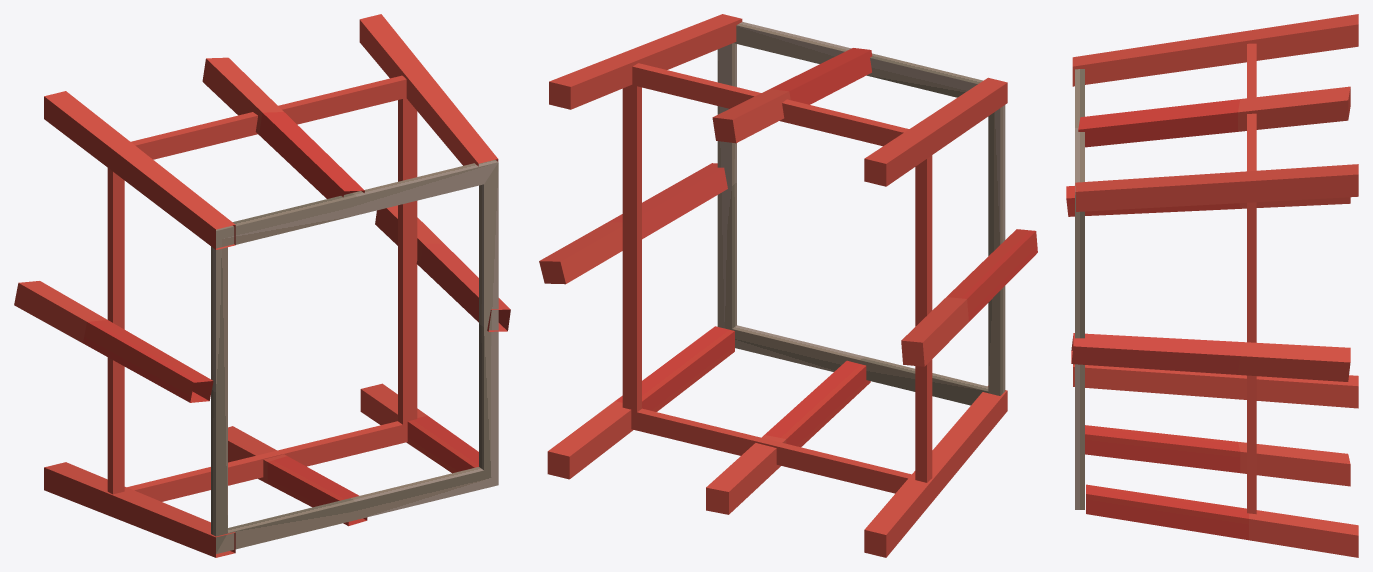
The model's file is 224_radiotower_001.gltf.
The picture shows the model from 3 angles, left to right: view 1: azimuth 30°, elevation 25°; view 2: azimuth 150°, elevation 25°; view 3: azimuth 270°, elevation 25°; orthographic projection. The views are drawn at different scales.
Visible parts, largest first — view 1: radiotower_001; view 2: radiotower_001; view 3: radiotower_001.
Part boxes in pixels (box(x1,y1,x2,y2)): radiotower_001: box(14, 14, 510, 557); radiotower_001: box(539, 14, 1037, 557); radiotower_001: box(1066, 14, 1358, 557).
Size of the model in its own units: 11.24 by 11.06 by 7.57.
Materials: 1 (1 with a texture image).
